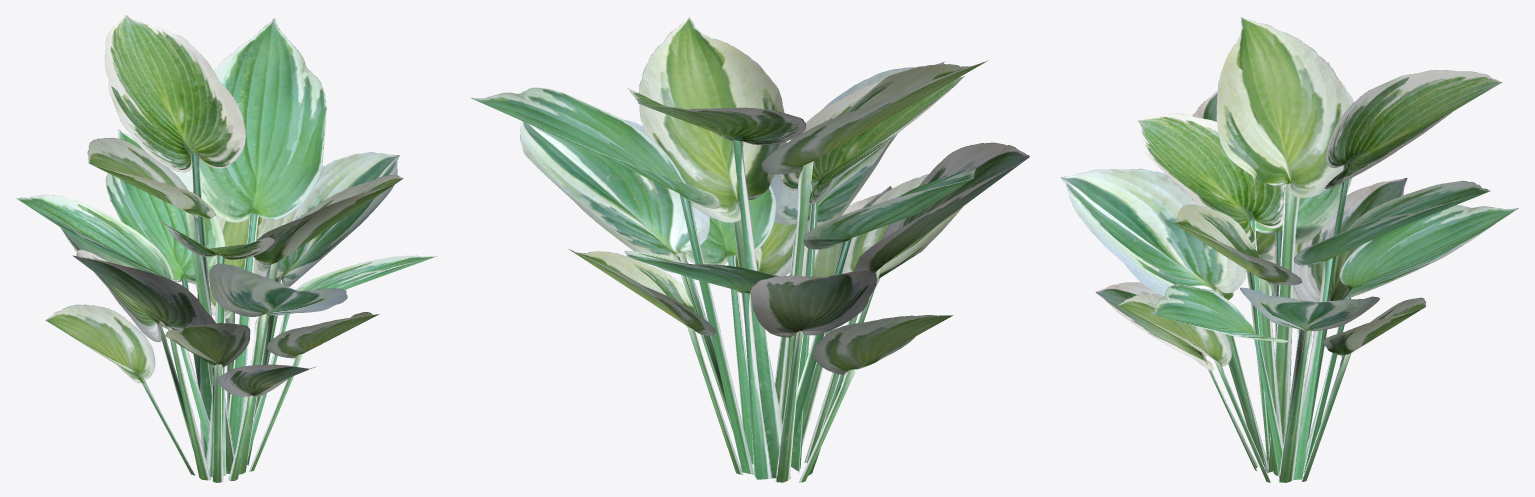
The model's file is plant_small_wg_00E2_wild.fbx.
The picture shows the model from 3 angles, left to right: view 1: azimuth 30°, elevation 25°; view 2: azimuth 150°, elevation 25°; view 3: azimuth 270°, elevation 25°; orthographic projection. The views are drawn at different scales.
Parts seen in each view (by area): view 1: plant_small_wg_00E2_wild; view 2: plant_small_wg_00E2_wild; view 3: plant_small_wg_00E2_wild.
Part boxes in pixels (x1,y1,x2,y2): plant_small_wg_00E2_wild: (16, 15, 437, 482); plant_small_wg_00E2_wild: (471, 17, 1029, 482); plant_small_wg_00E2_wild: (1060, 17, 1518, 482).
Bounding box in the file's own units: 58.31 × 55.18 × 58.73.
